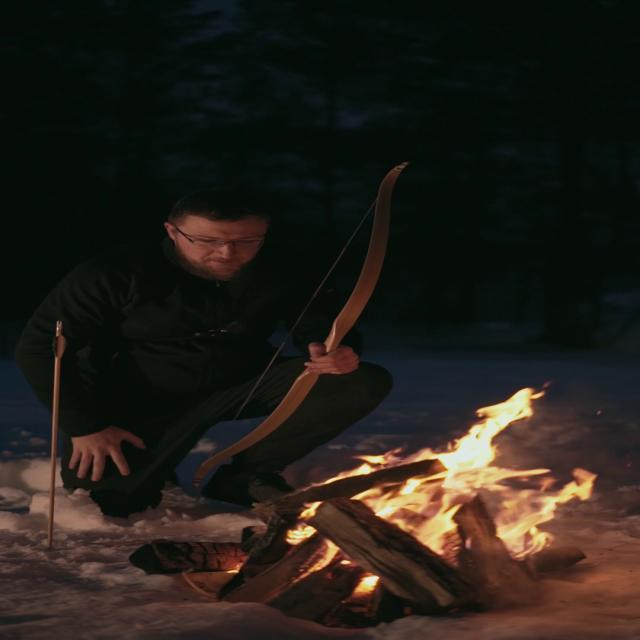Fire: (304, 378, 607, 571)
